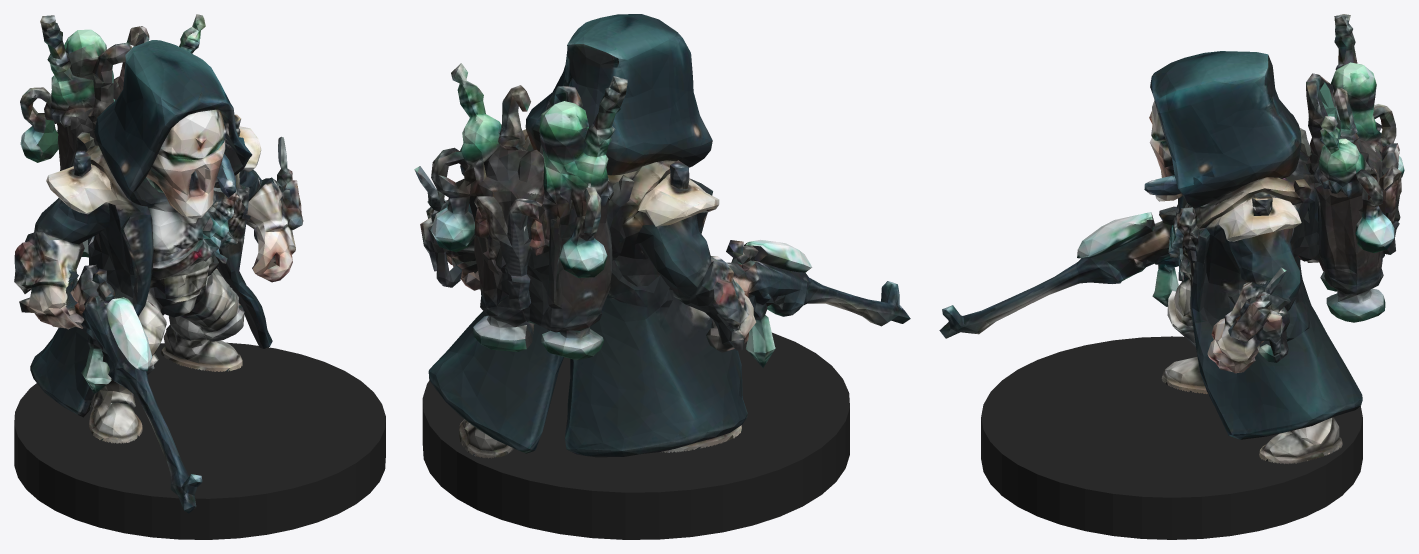
File: ha-elixicant.glb
3 renders of one model, left to right at view 1: azimuth 30°, elevation 25°; view 2: azimuth 150°, elevation 25°; view 3: azimuth 270°, elevation 25°, orthographic. The views are drawn at different scales.
Visible parts, largest first — view 1: figure, base; view 2: figure, base; view 3: figure, base.
Boxes of the visible parts, left/top/right/bottom form: figure: left=14, top=14, right=303, bottom=513; base: left=14, top=342, right=385, bottom=539; figure: left=414, top=14, right=910, bottom=458; base: left=422, top=332, right=849, bottom=539; figure: left=939, top=14, right=1404, bottom=463; base: left=981, top=336, right=1362, bottom=539.
Size of the model in its own units: 0.9843 by 1.17 by 1.2.
Materials: 2 (1 with a texture image).
